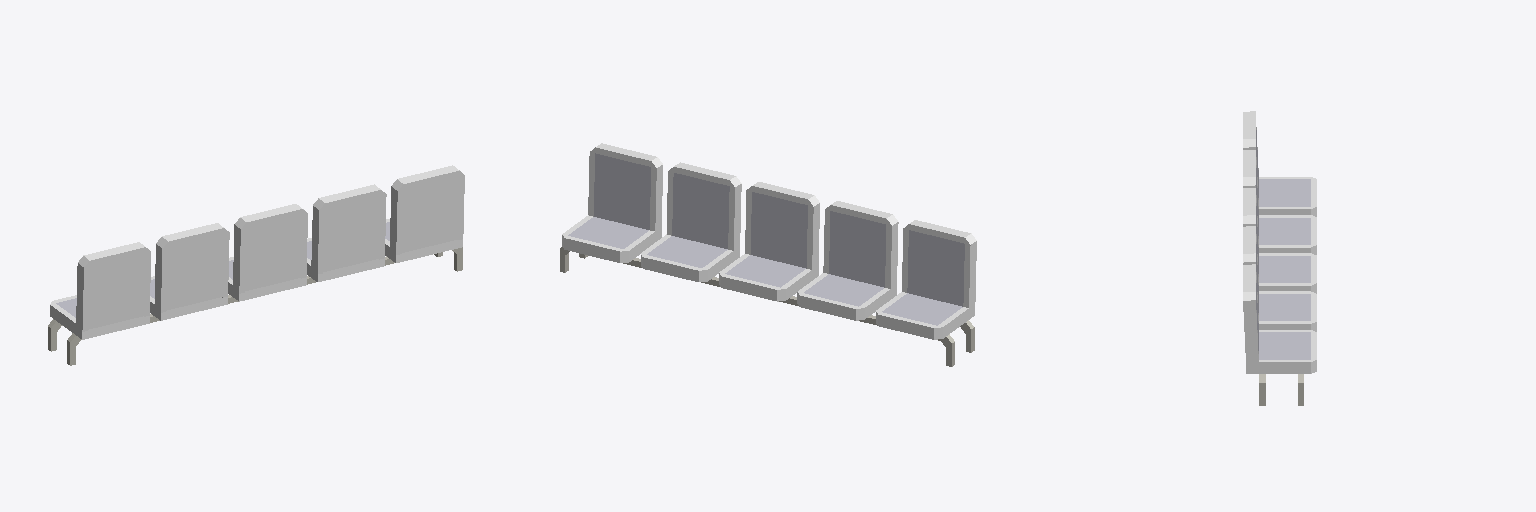
File: chair7.obj
3 views of the same model, side by side, from view 1: azimuth 30°, elevation 25°; view 2: azimuth 150°, elevation 25°; view 3: azimuth 270°, elevation 25° (orthographic).
Visible parts, largest first — view 1: Part33, Part9, Part21, Part44, Part55, Part51, Part29, Part40, Part5, Part17, Part22, Part56 (+8 smaller); view 2: Part11, Part23, Part57, Part46, Part35, Part12, Part36, Part47, Part24, Part58, Part38, Part27 (+13 smaller); view 3: Part12, Part36, Part24, Part47, Part58, Part7, Part4.
Boxes of the visible parts, x1=… form: Part33: x1=88, y1=253, x2=145, y2=329; Part9: x1=402, y1=177, x2=458, y2=252; Part21: x1=323, y1=196, x2=380, y2=271; Part44: x1=167, y1=234, x2=223, y2=309; Part55: x1=245, y1=215, x2=302, y2=290; Part51: x1=233, y1=224, x2=246, y2=297; Part29: x1=76, y1=263, x2=89, y2=331; Part40: x1=154, y1=244, x2=167, y2=312; Part5: x1=390, y1=186, x2=402, y2=256; Part17: x1=311, y1=206, x2=324, y2=273; Part22: x1=319, y1=184, x2=380, y2=208; Part56: x1=240, y1=204, x2=302, y2=227; Part11: x1=594, y1=153, x2=650, y2=229; Part23: x1=672, y1=173, x2=729, y2=248; Part57: x1=751, y1=192, x2=807, y2=268; Part46: x1=829, y1=211, x2=885, y2=287; Part35: x1=907, y1=230, x2=964, y2=306; Part12: x1=568, y1=217, x2=648, y2=248; Part36: x1=882, y1=293, x2=962, y2=325; Part47: x1=804, y1=274, x2=883, y2=306; Part24: x1=647, y1=236, x2=727, y2=267; Part58: x1=725, y1=255, x2=805, y2=287; Part38: x1=800, y1=293, x2=857, y2=320; Part27: x1=878, y1=312, x2=936, y2=339; Part12: x1=1259, y1=332, x2=1310, y2=359; Part36: x1=1259, y1=179, x2=1310, y2=206; Part24: x1=1259, y1=294, x2=1310, y2=320; Part47: x1=1259, y1=218, x2=1310, y2=244; Part58: x1=1259, y1=256, x2=1310, y2=282; Part7: x1=1243, y1=300, x2=1258, y2=370; Part4: x1=1253, y1=360, x2=1310, y2=373.
Size of the model in its own units: 15.18 by 4.03 by 2.5.